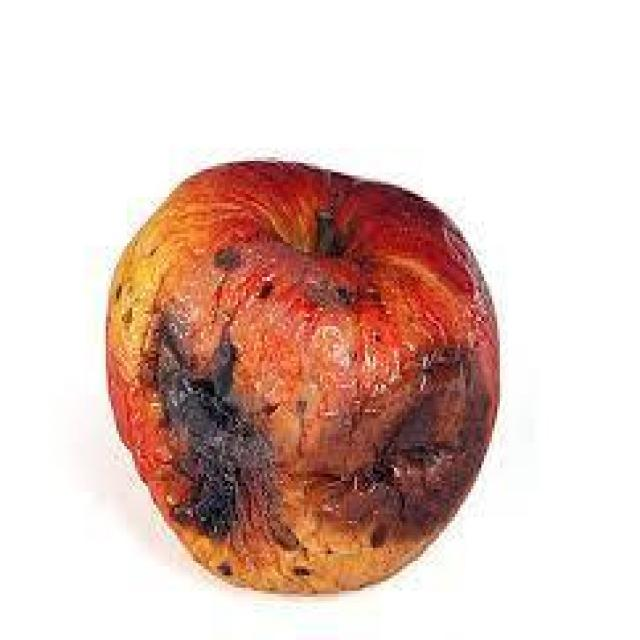maca: (103, 154, 500, 594)
